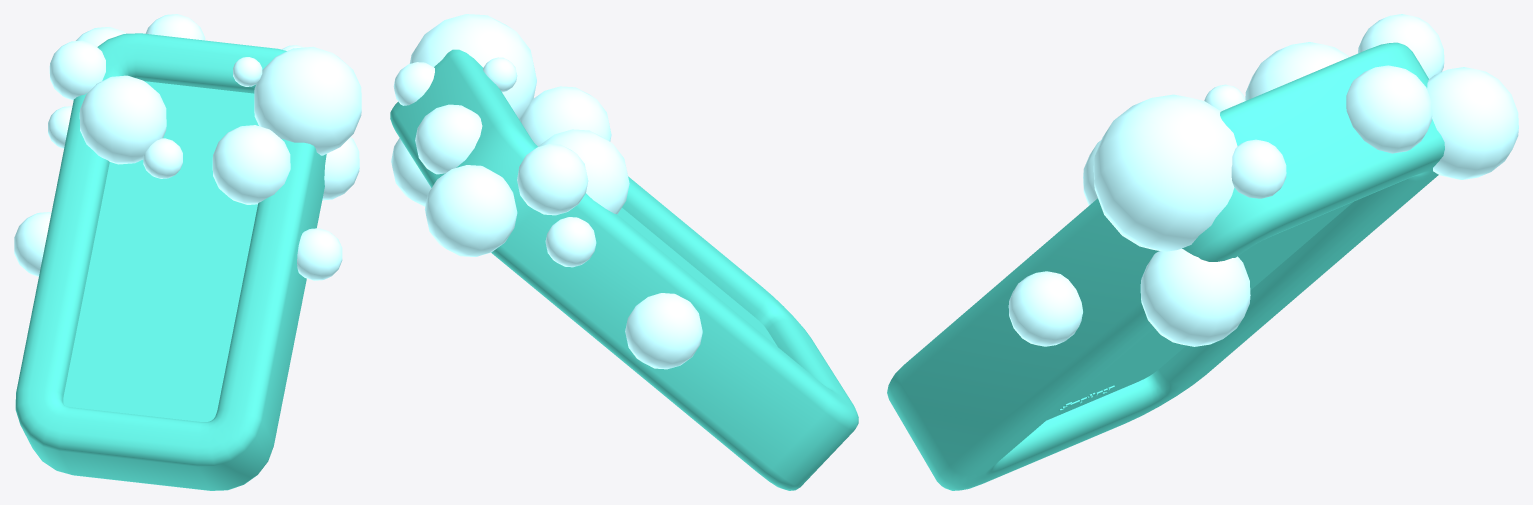
File: soap.gltf
3 renders of one model, left to right at view 1: azimuth 30°, elevation 25°; view 2: azimuth 150°, elevation 25°; view 3: azimuth 270°, elevation 25°, orthographic. The views are drawn at different scales.
Parts seen in each view (by area): view 1: Cube.1016; view 2: Cube.1016; view 3: Cube.1016.
Boxes of the visible parts, x1=… form: Cube.1016: x1=14, y1=14, x2=361, y2=490; Cube.1016: x1=390, y1=14, x2=858, y2=490; Cube.1016: x1=887, y1=14, x2=1518, y2=490.
Size of the model in its own units: 2.16 by 1.99 by 2.29.
Materials: 1 (1 with a texture image).
